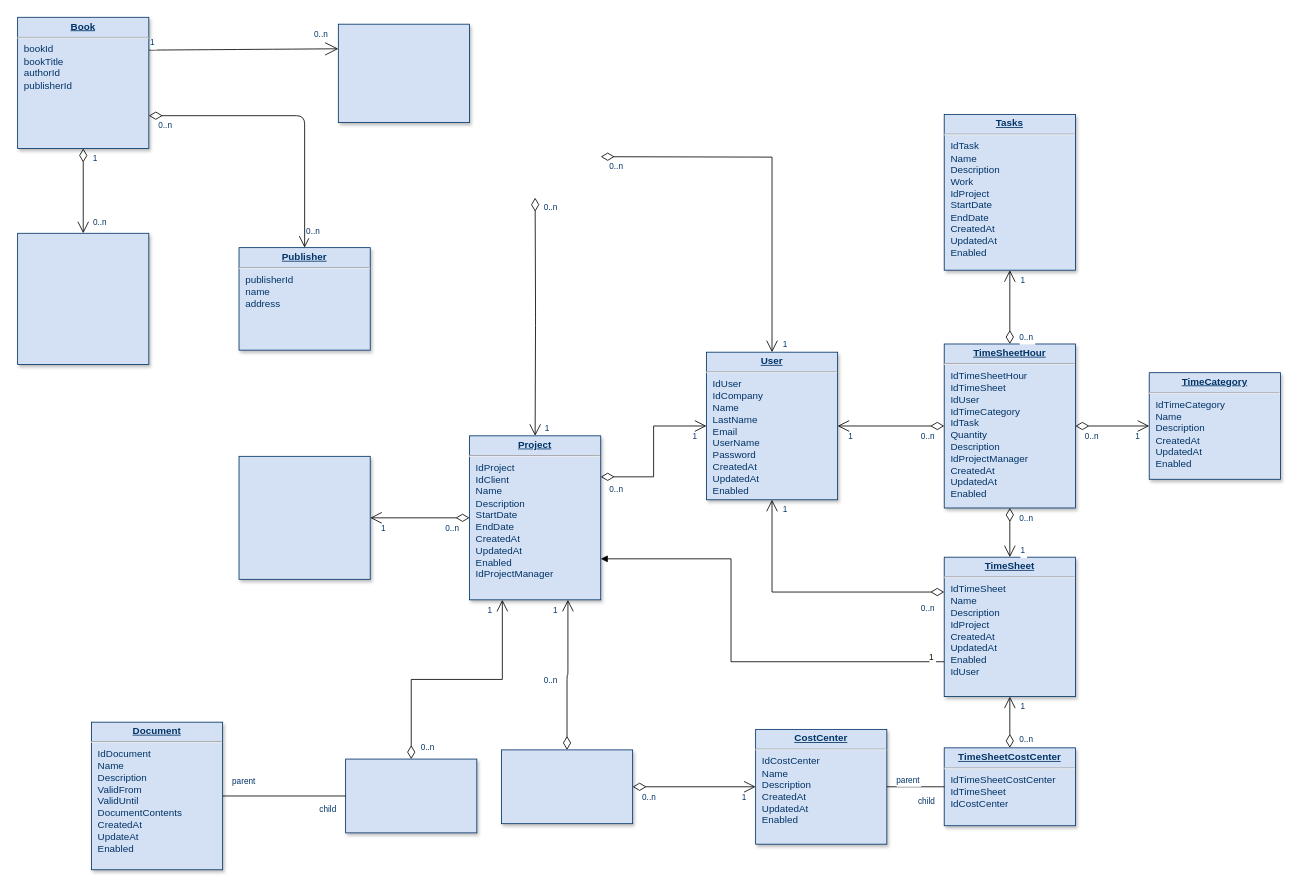
Some shapes in this 1300 by 891 pixel diagram are drawn without their labels. The shapes that lost their labels are listed below. From the top down, each one's centre as x and y in pixels, then its label:
[404,74]: Author authorId fullName
[84,299]: Genre genreId genreName
[305,518]: Client IdClient IdCompany Name Description CreatedAt UpdatedAt Enabled
[412,797]: ProjectDocument IdProjectDocument IdProject IdDocument
[567,787]: ProjectCostCenter IdProjectCostCenter IdProject IdCostCenter
